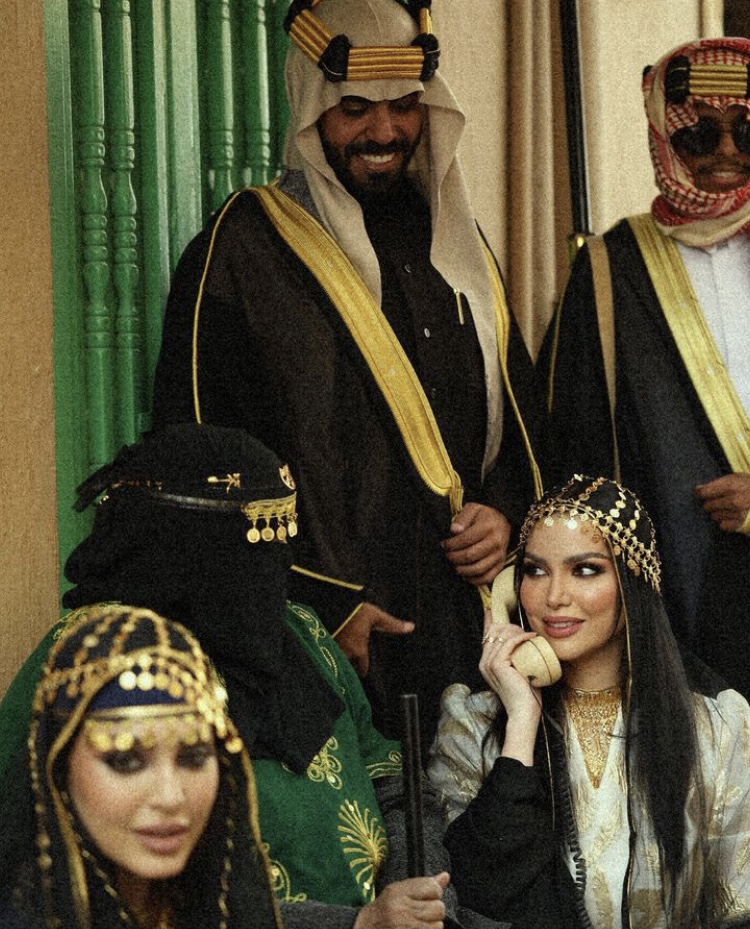Saudi_Founding_Day: (145, 1, 570, 746), (62, 419, 460, 929), (529, 33, 750, 719), (422, 468, 750, 929), (1, 598, 291, 929)
